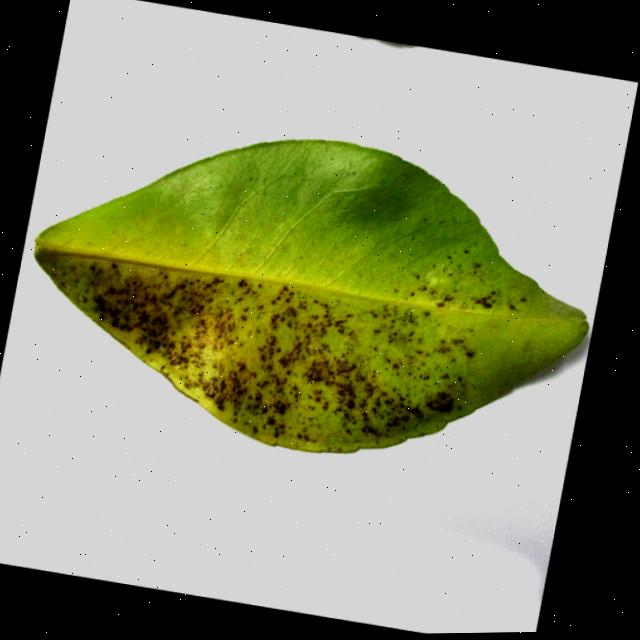melanose: (34, 140, 588, 453)
